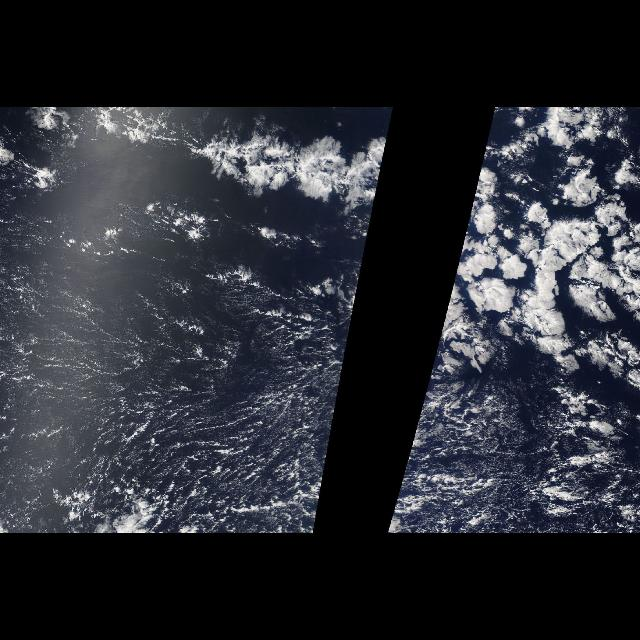Fish: (142, 114, 388, 206)
Flower: (428, 124, 638, 378), (180, 145, 386, 219)
Gravel: (407, 388, 626, 534)
Sugar: (1, 222, 366, 534), (409, 381, 639, 532)
